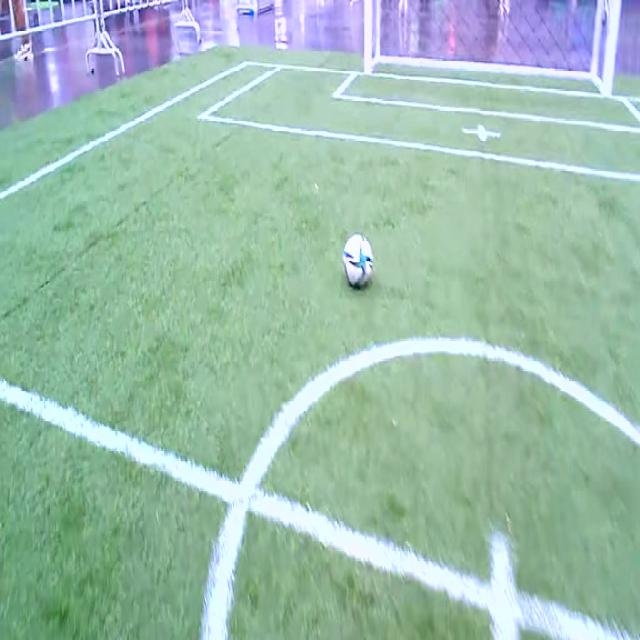ball: (343, 234, 373, 288)
